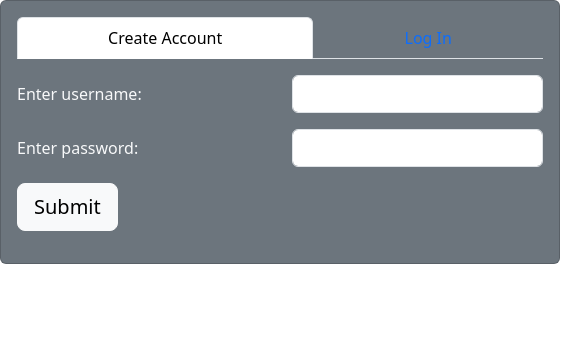
Test case: Log In tab › shows an error alert and does not navigate when login fails
The width and height of the screenshot is (577, 355).
Step 1. Click the tab "Log In" → (428, 38), box top-left (313, 17), bottom-right (543, 59)
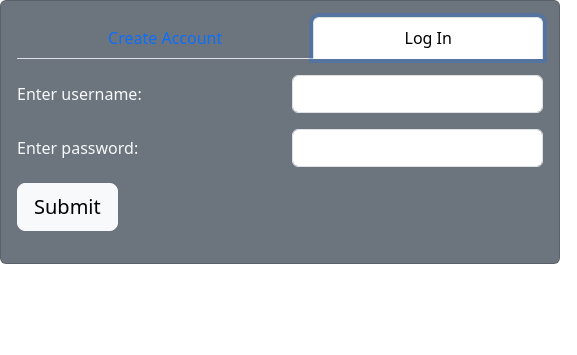
Step 2. Click the button "Submit" → (67, 207), box top-left (17, 183), bottom-right (118, 231)
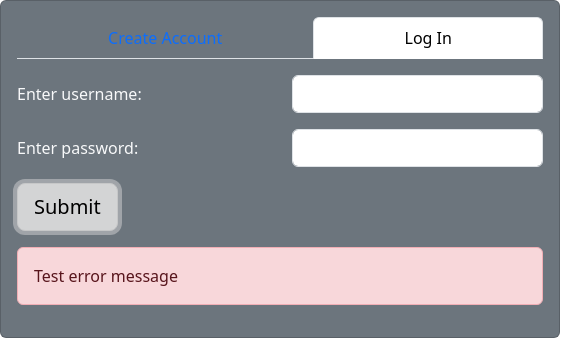
Expected: the message reads "Test error message", top-left (34, 265), bottom-right (178, 287)
